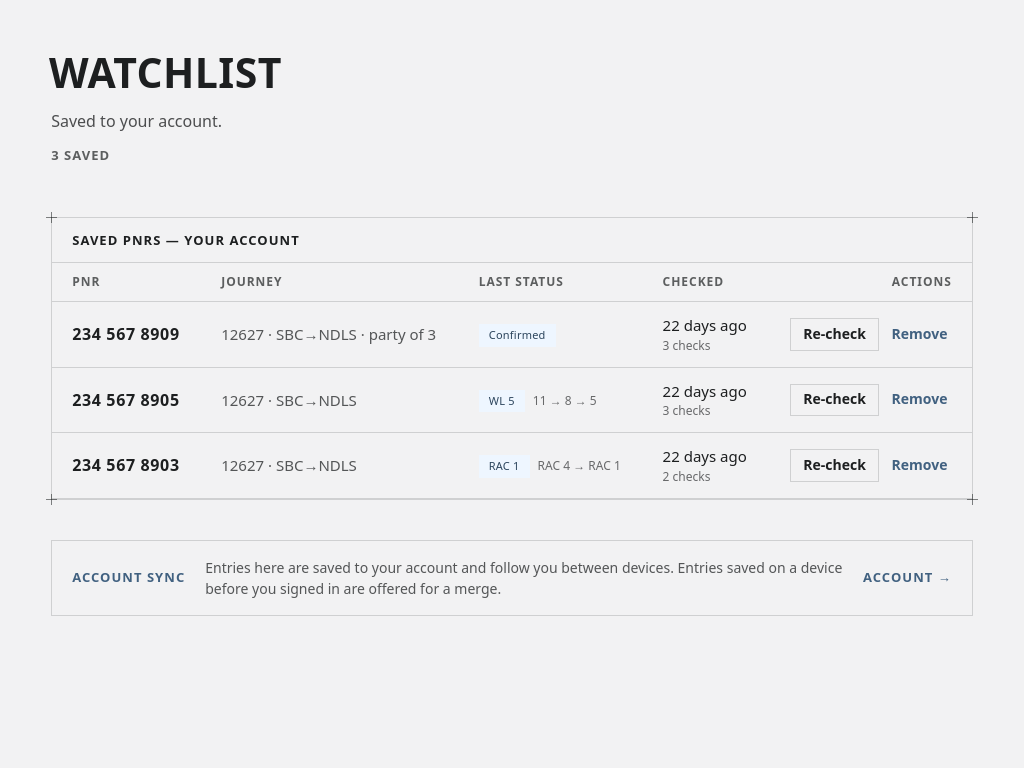
it: WatchlistView — your account › puts the entry back when the API refuses the removal
Click the button with test id "watchlist-remove" at (919, 400), box [887,384,952,416]
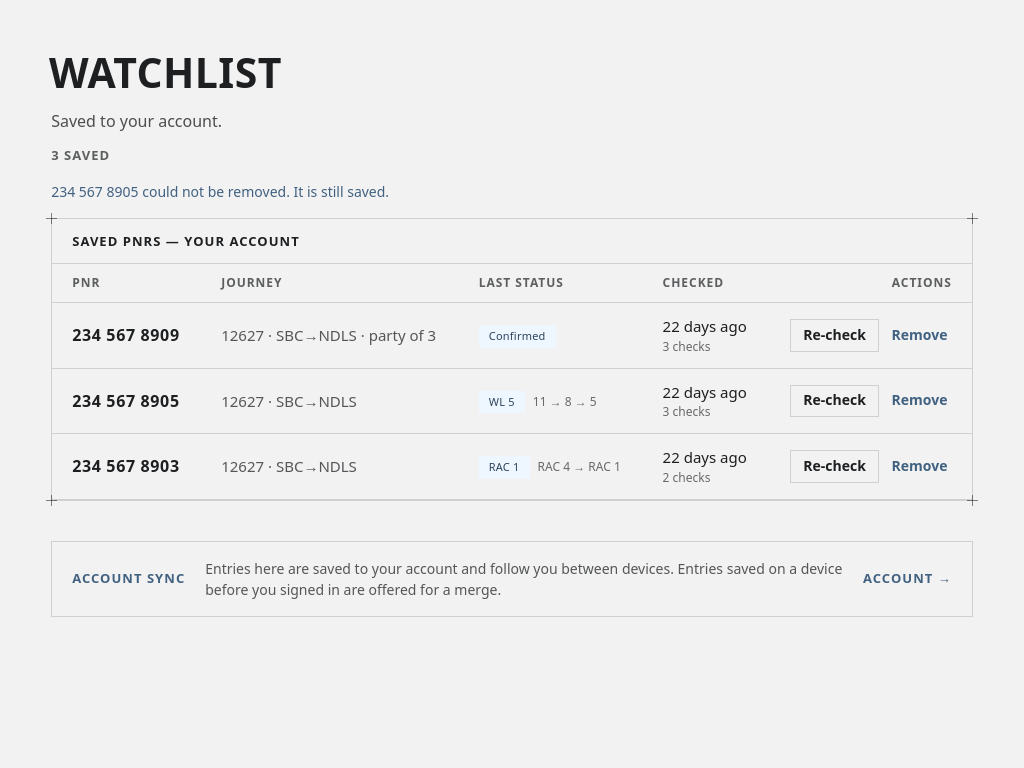
Result: the text "234 567 8905 could not be removed. It is still saved." is shown at [51,182,389,201]
